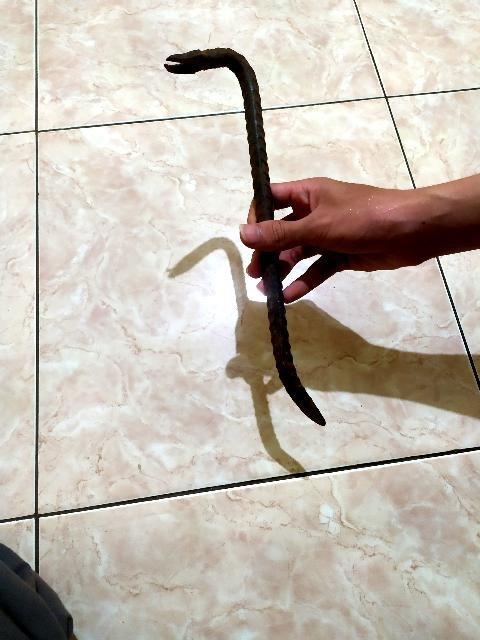crow bar: (162, 43, 338, 437)
